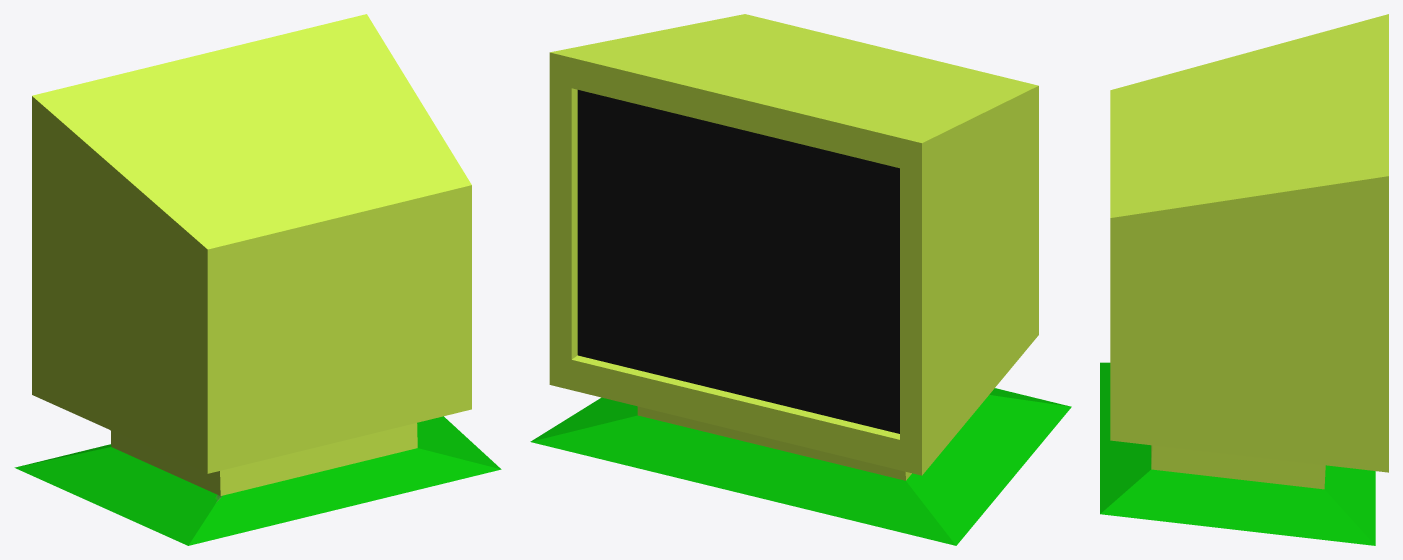
Rendered from Monitor.FBX.
3 views of the same model, side by side, from view 1: azimuth 30°, elevation 25°; view 2: azimuth 150°, elevation 25°; view 3: azimuth 270°, elevation 25° (orthographic). The views are drawn at different scales.
Visible parts, largest first — view 1: Monitor; view 2: Monitor; view 3: Monitor.
Part boxes in pixels (x1=…): Monitor: x1=14, y1=14, x2=501, y2=545; Monitor: x1=530, y1=14, x2=1071, y2=545; Monitor: x1=1100, y1=14, x2=1388, y2=545.
Bounding box in the file's own units: 17.09 × 15.38 × 11.24.
1 material, 1 textured.
